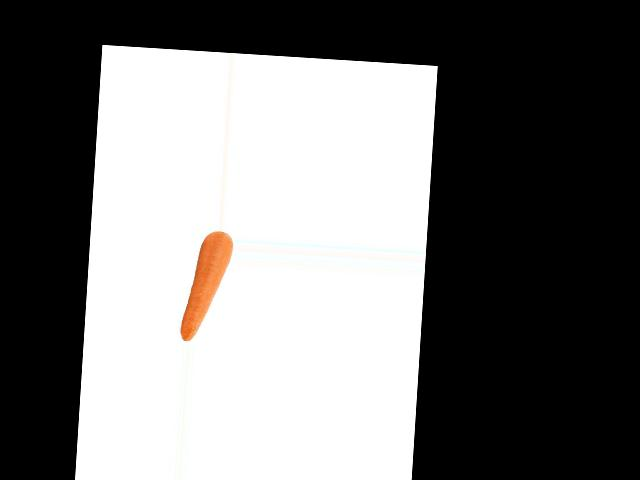carrot: (174, 247, 232, 346)
